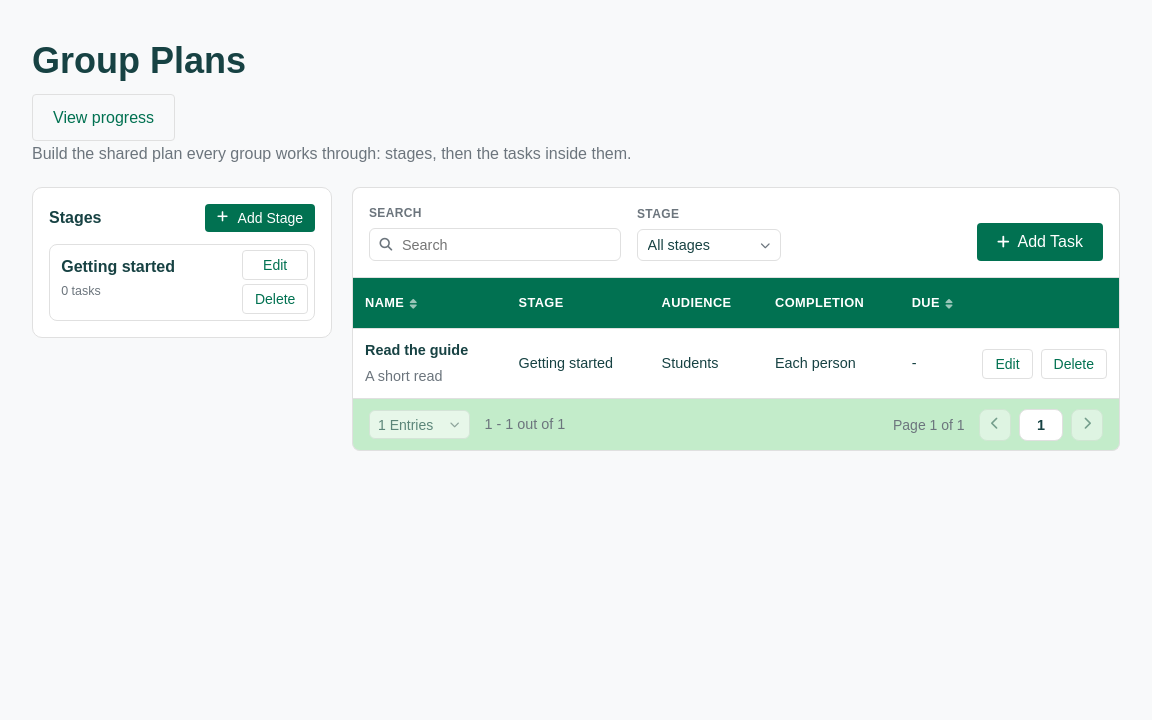
Scenario: AdminPlanTasksPage › refuses to delete a stage still holding tasks and shows the reason
Click the 1st button "Delete" at (275, 299), box x1=242 y1=284 x2=308 y2=314
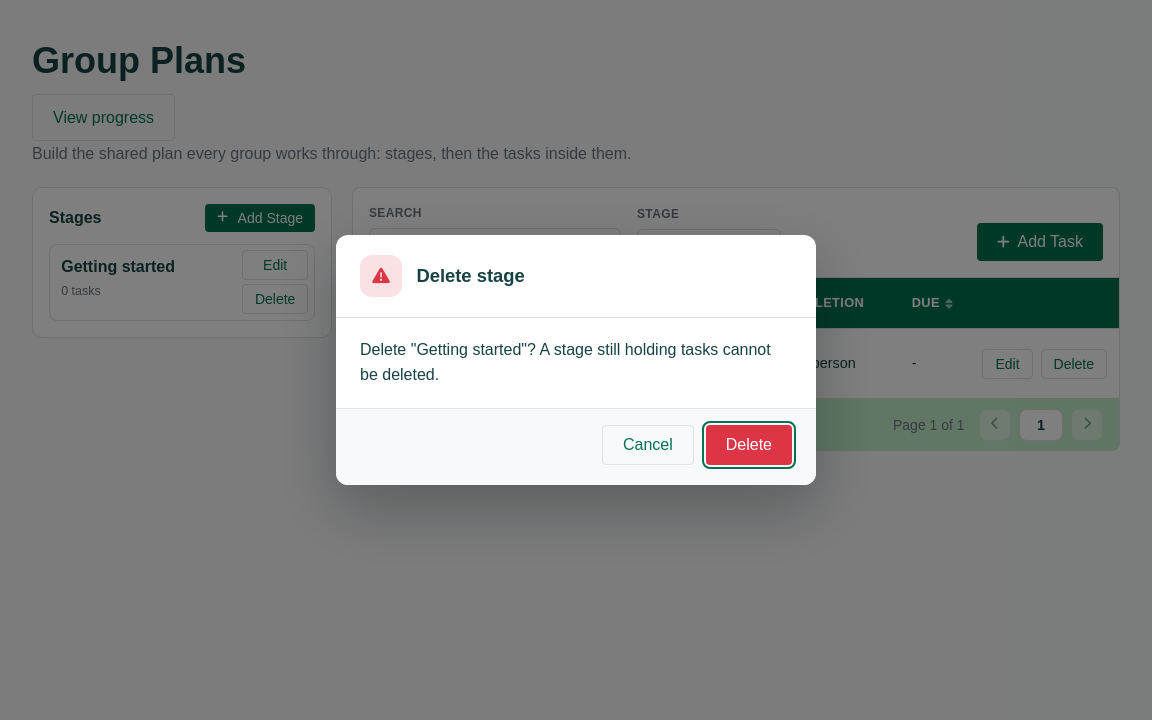
Click the button "Delete" at (749, 445), box x1=706 y1=425 x2=792 y2=465
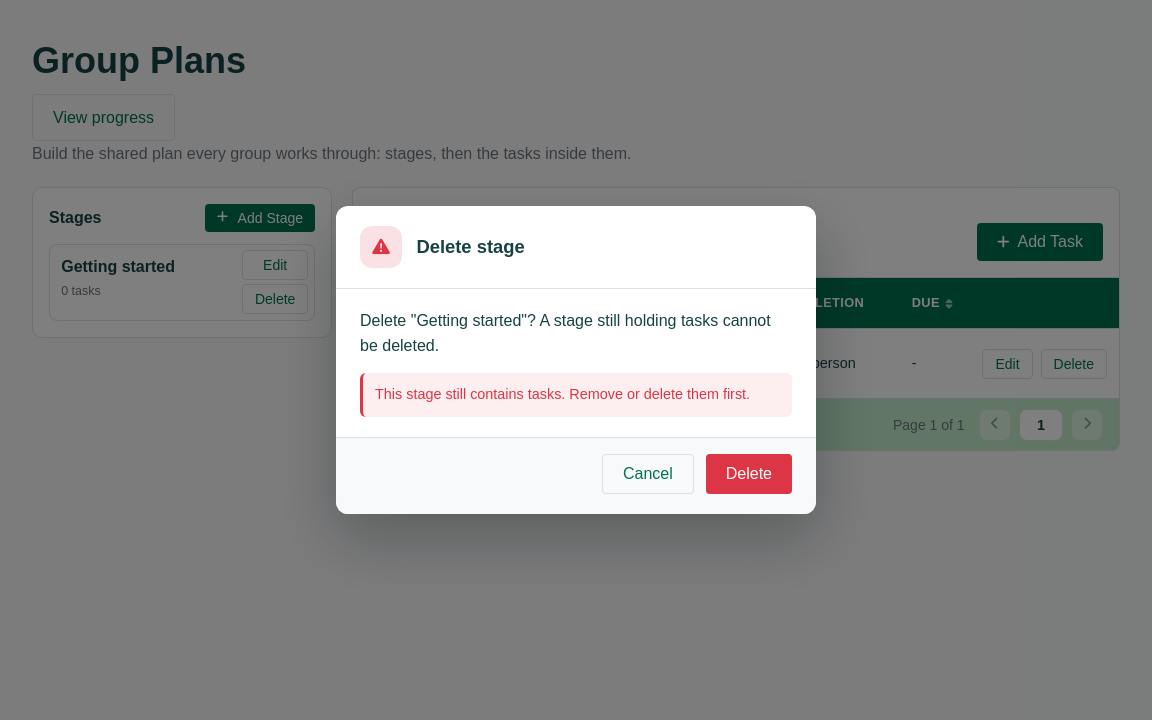
Check: the text "still contains tasks" is shown, box x1=375 y1=386 x2=750 y2=402
